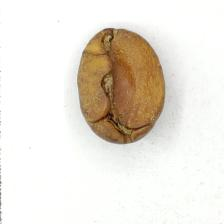NG: (93, 32, 154, 140)
